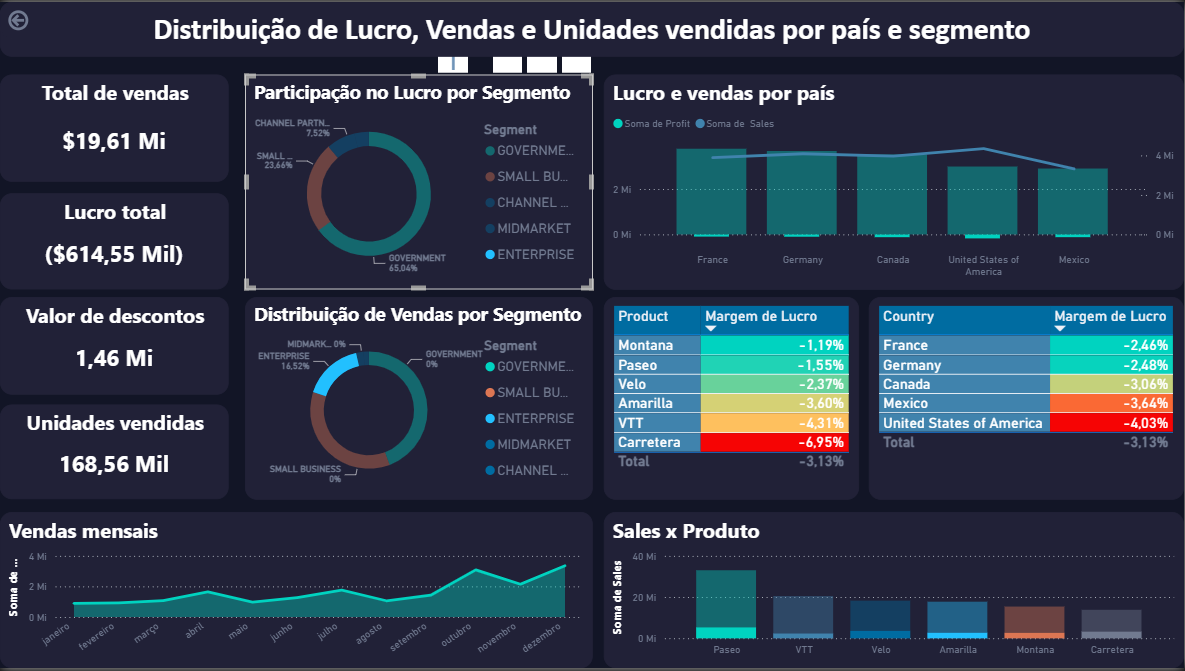

The page's visual inventory and layout, read from the dashboard file:
{"tool":"powerbi","page":{"name":"Página 3","canvas":[1280,720],"ordinal":0},"visuals":[{"type":"donutChart","title":"Participação no Lucro por Segmento","fields":{"Category":["financials.Segment"],"Y":["Sum(financials.Profit)"]},"box":[264.9,78.4,375.7,232.4],"z":0},{"type":"donutChart","title":"Distribuição de Vendas por Segmento","fields":{"Y":["Sum(financials. Sales)"],"Category":["financials.Segment"]},"box":[264.9,318.9,375.7,218.9],"z":1000},{"type":"textbox","box":[0,0,1280,59.1],"z":3000},{"type":"card","title":"Lucro total","fields":{"Values":["Sum(financials.Profit)"]},"box":[0,206.8,247.3,104.1],"z":4000},{"type":"actionButton","box":[0,0,100,40],"z":5000},{"type":"card","title":"Unidades vendidas","fields":{"Values":["Sum(financials.Units Sold)"]},"box":[0,435.1,247.3,102.7],"z":6000},{"type":"card","title":"Total de vendas","fields":{"Values":["Sum(financials. Sales)"]},"box":[0,78.4,247.3,116.2],"z":7000},{"type":"clusteredColumnChart","title":"Sales x Produto","fields":{"Category":["financials.Product"],"Y":["Sum(financials. Sales)"]},"box":[652.7,551.4,627,168.9],"z":8000},{"type":"card","title":"Valor de descontos","fields":{"Values":["Sum(financials.Discounts)"]},"box":[0,318.9,247.3,105.4],"z":9000},{"type":"areaChart","title":"Vendas mensais","fields":{"Category":["financials.Date.Variation.Hierarquia de datas.Mês"],"Y":["Sum(financials. Sales)"]},"box":[0,551.4,640.5,168.9],"z":10000},{"type":"lineClusteredColumnComboChart","title":"Lucro e vendas por país","fields":{"Category":["financials.Country"],"Y2":["Sum(financials. Sales)"],"Y":["Sum(financials.Profit)"]},"box":[652.7,78.4,627,232.4],"z":11000},{"type":"tableEx","fields":{"Values":["financials.Country","financials.Margem de Lucro"]},"box":[939.2,318.9,340.5,218.9],"z":12000},{"type":"tableEx","fields":{"Values":["financials.Product","financials.Margem de Lucro"]},"box":[652.7,318.9,275.7,218.9],"z":13000}]}

Visuals, with their boxes in screenshot pixels (x1, y1, x2, y2), scaled from the page's 1280x720 canvas onto the 1185x671 screenshot:
"Participação no Lucro por Segmento" donutChart: <region>245, 73, 593, 290</region>
"Distribuição de Vendas por Segmento" donutChart: <region>245, 297, 593, 501</region>
textbox: <region>0, 0, 1184, 55</region>
"Lucro total" card: <region>0, 193, 229, 290</region>
actionButton: <region>0, 0, 93, 37</region>
"Unidades vendidas" card: <region>0, 405, 229, 501</region>
"Total de vendas" card: <region>0, 73, 229, 181</region>
"Sales x Produto" clusteredColumnChart: <region>604, 514, 1184, 670</region>
"Valor de descontos" card: <region>0, 297, 229, 395</region>
"Vendas mensais" areaChart: <region>0, 514, 593, 670</region>
"Lucro e vendas por país" lineClusteredColumnComboChart: <region>604, 73, 1184, 290</region>
tableEx - financials.Country x financials.Margem de Lucro: <region>869, 297, 1184, 501</region>
tableEx - financials.Product x financials.Margem de Lucro: <region>604, 297, 859, 501</region>
